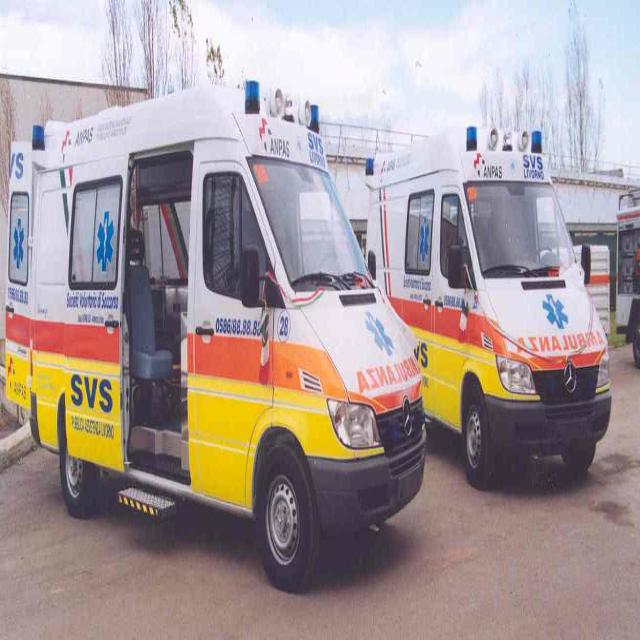emergency-vehicle: (24, 85, 429, 592)
